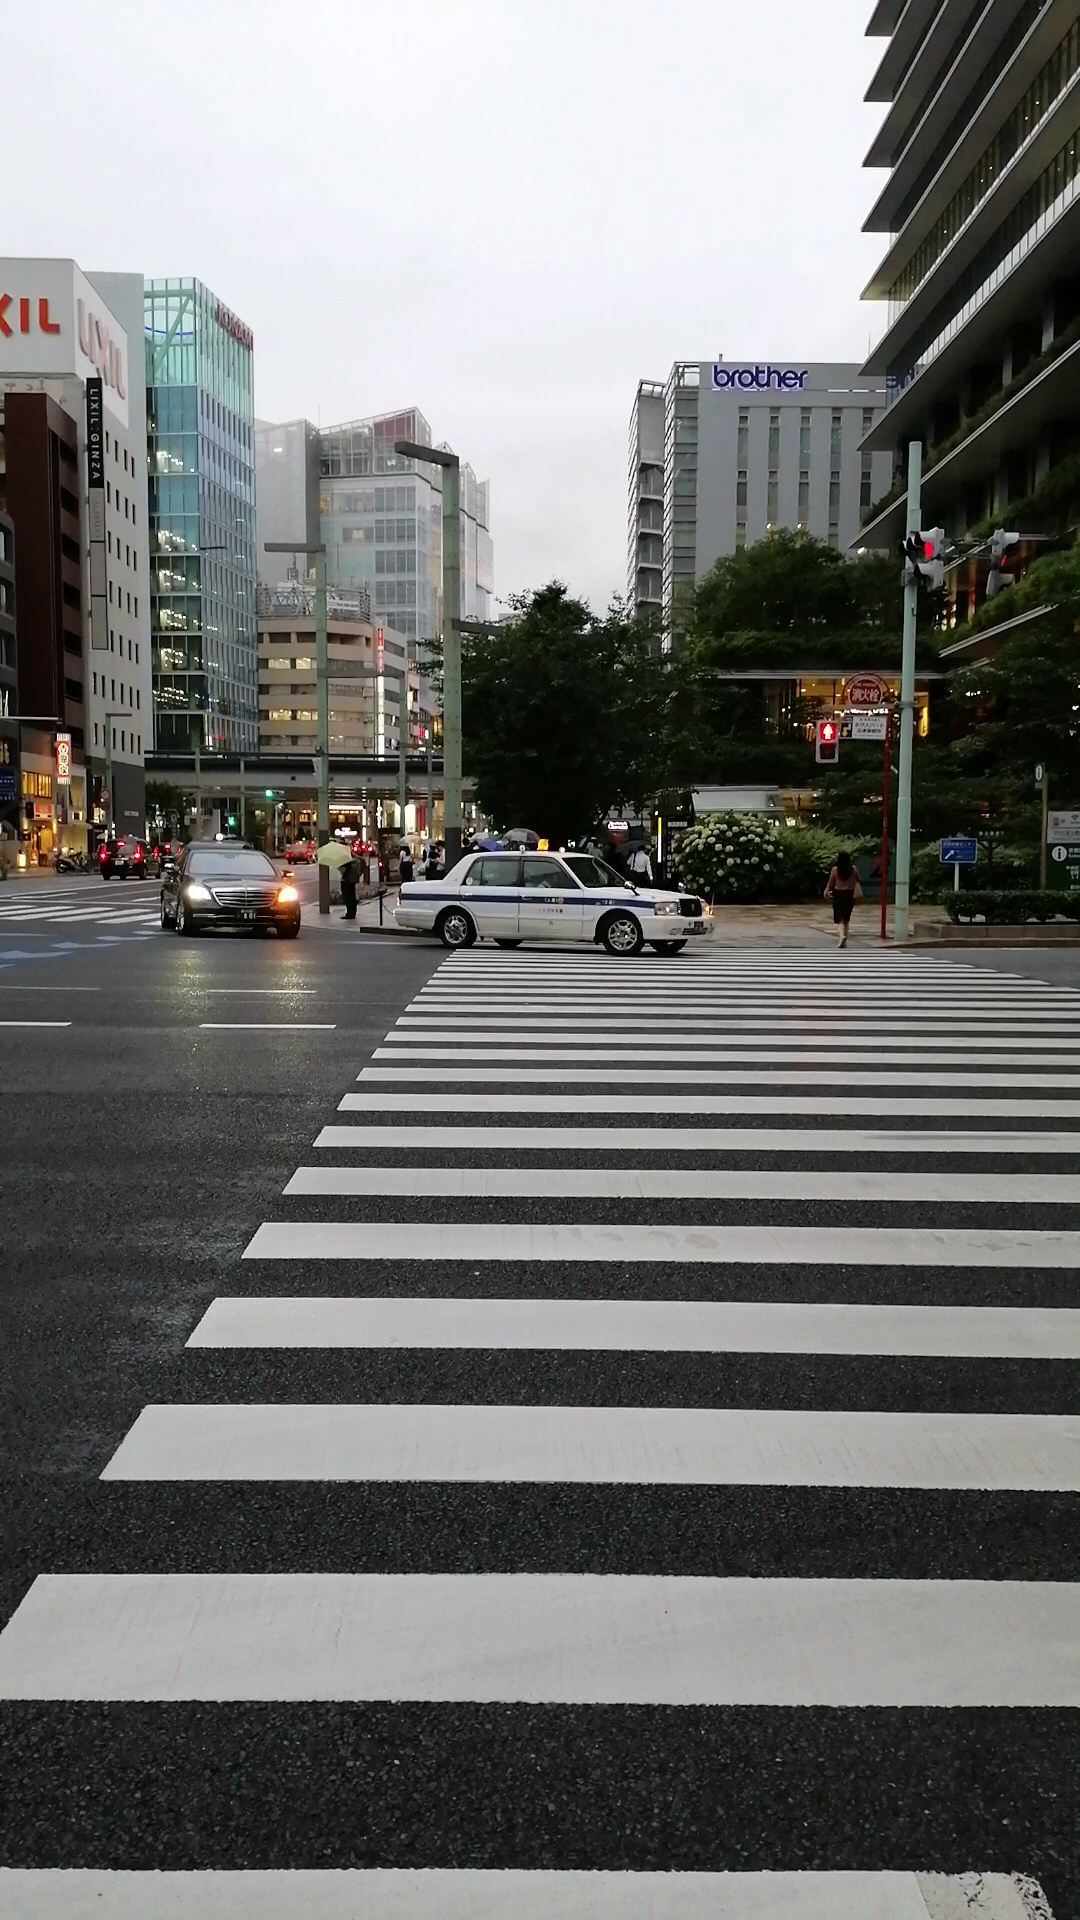red: (815, 717, 840, 764)
